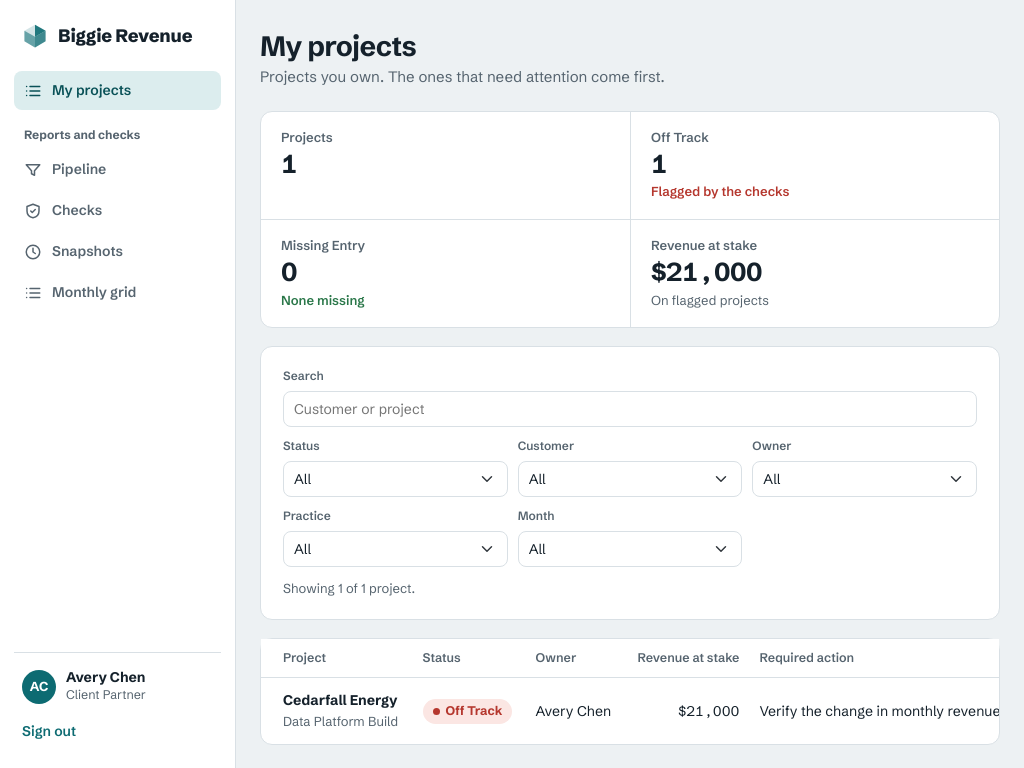
Test: Snapshots › lists snapshots newest first with kind, who took them and the stored totals
Step 1. Click the button "Snapshots" → (118, 252), box [14,232,221,271]
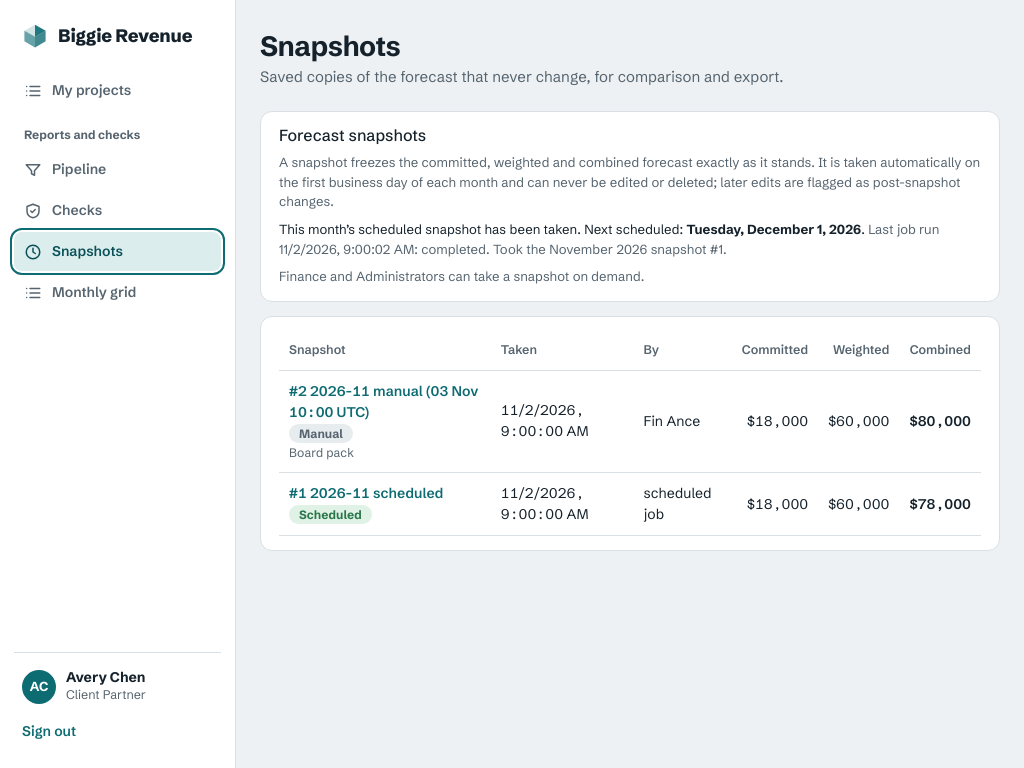
Expected: the button "#2 2026-11 manual (03 Nov 10:00 UTC)" is shown, [289,381,481,423]
Expected: the text "Manual" is shown, [289,424,353,443]
Expected: the text "Board pack" is shown, [289,445,354,460]
